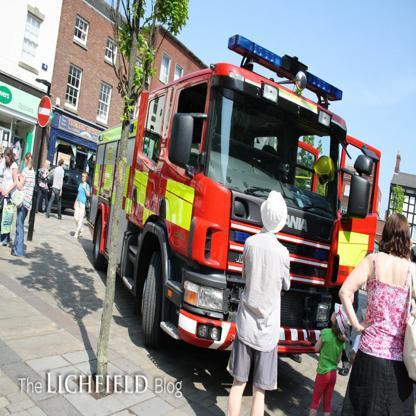fire-truck: (65, 24, 365, 371)
